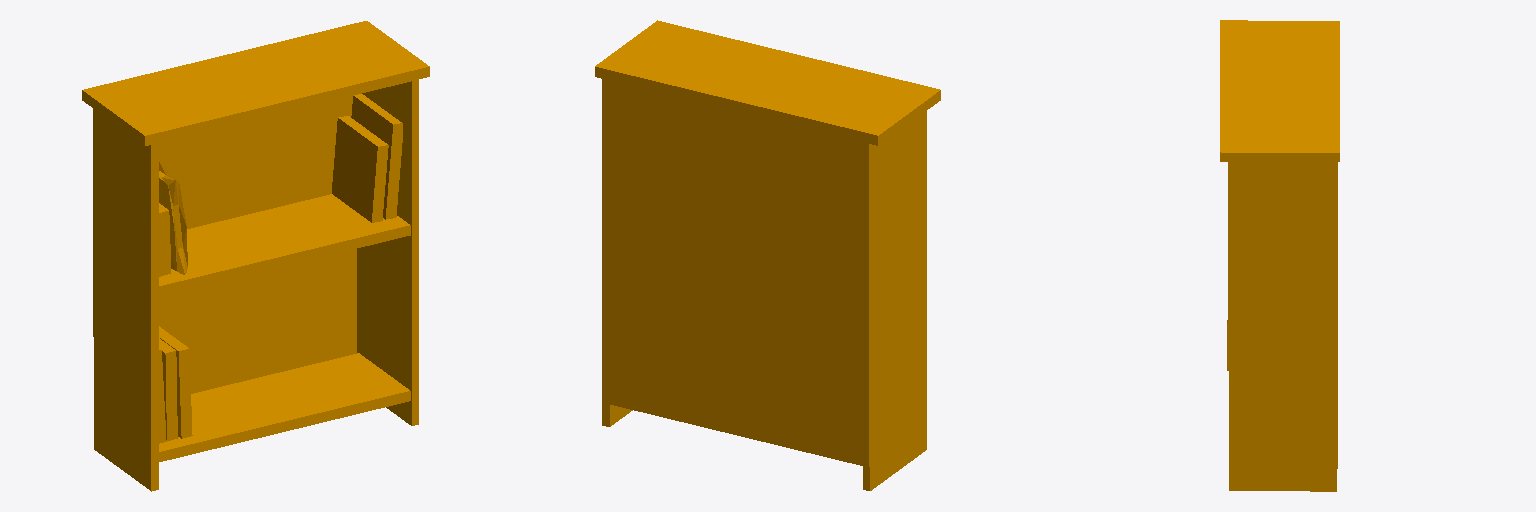
robot.urdf — none:
<robot name="none">
       <link name="none">
           <visual>
               <origin rpy="1.57 0 0" xyz="0 0 0" />
               <geometry>
                   <mesh filename="smallbookshelves.obj" />
               </geometry>
           </visual>
          <collision>
              <geometry>
                  <box size="0.825899 1.000000 0.316547" />
              </geometry>
          </collision>

          <inertial>
            <mass value="0.0" />
            <inertia ixx="0.0" ixy="0.0" ixz="0.0" iyy="0.0" iyz="0.0" izz="0.0" />
          </inertial>
      </link>
  </robot>

--- Render facts (derived) ---
3 views of the same robot in one strip: view 1: azimuth 30°, elevation 25°; view 2: azimuth 150°, elevation 25°; view 3: azimuth 270°, elevation 25° (orthographic).
Model none with 1 links and 0 joints (none), rooted at none, posed every joint at zero.
Links seen in each view (by area): view 1: none; view 2: none; view 3: none.
Link boxes in pixels (left/top/right/bottom): none: left=82, top=21, right=429, bottom=491; none: left=595, top=20, right=940, bottom=490; none: left=1220, top=20, right=1339, bottom=491.
Bounding box of the posed robot: 0.8259 × 0.3166 × 1 m (x, y, z).
Meshes: 1 distinct files referenced, 1 mesh visuals loaded (1 OBJ).